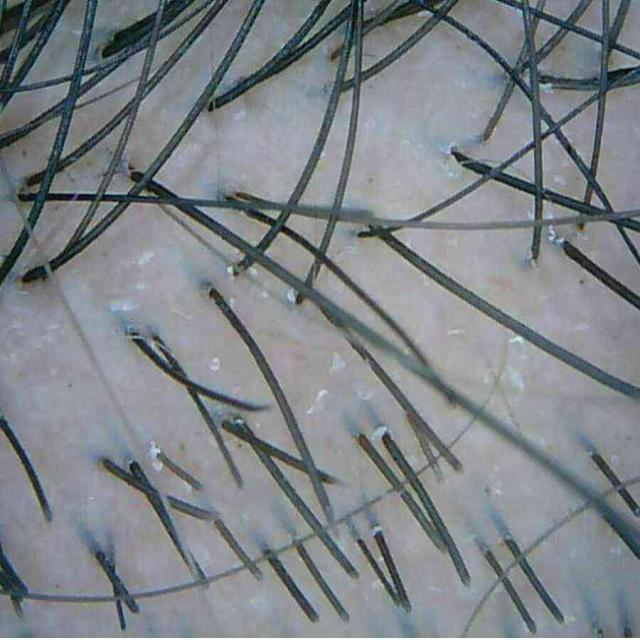d: (499, 365, 526, 408), (306, 389, 329, 415), (149, 441, 164, 472), (546, 225, 565, 248), (109, 299, 138, 313), (331, 351, 346, 371), (136, 251, 154, 267), (371, 426, 388, 441), (552, 173, 569, 186), (285, 289, 298, 305), (234, 109, 246, 122), (540, 83, 554, 93), (210, 358, 220, 371), (509, 336, 524, 344), (226, 265, 236, 276), (260, 291, 268, 299)
